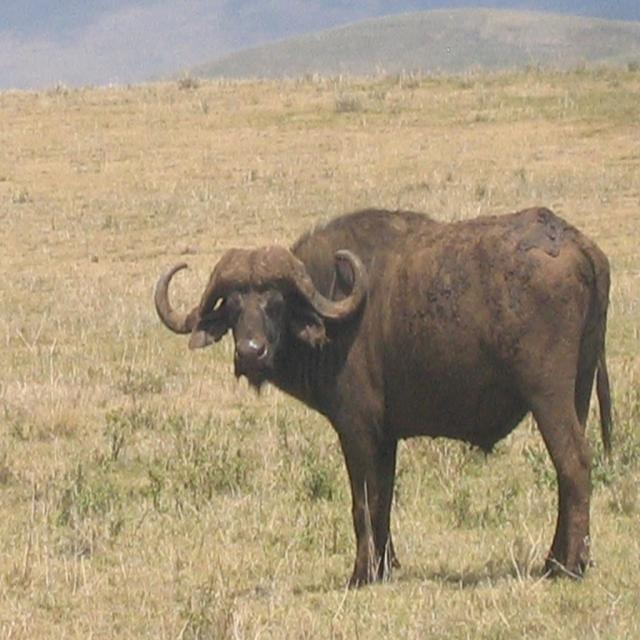Cattle: (154, 207, 614, 590)
